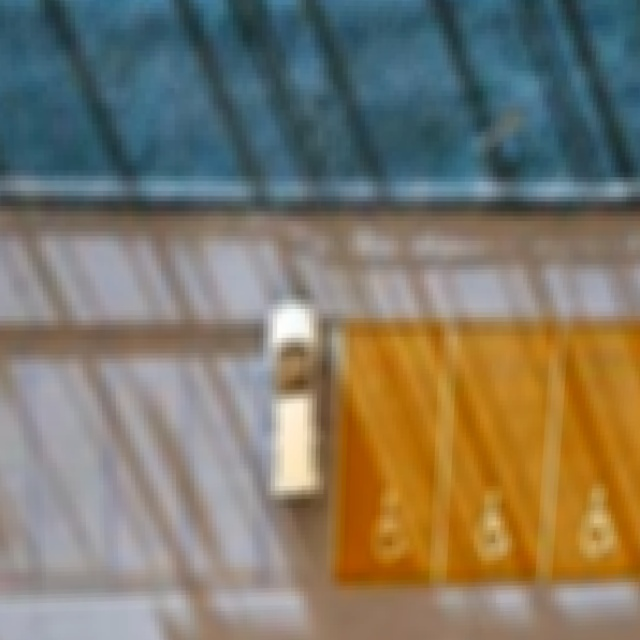ISA: (474, 487, 514, 556), (371, 487, 408, 556), (582, 486, 618, 554)
